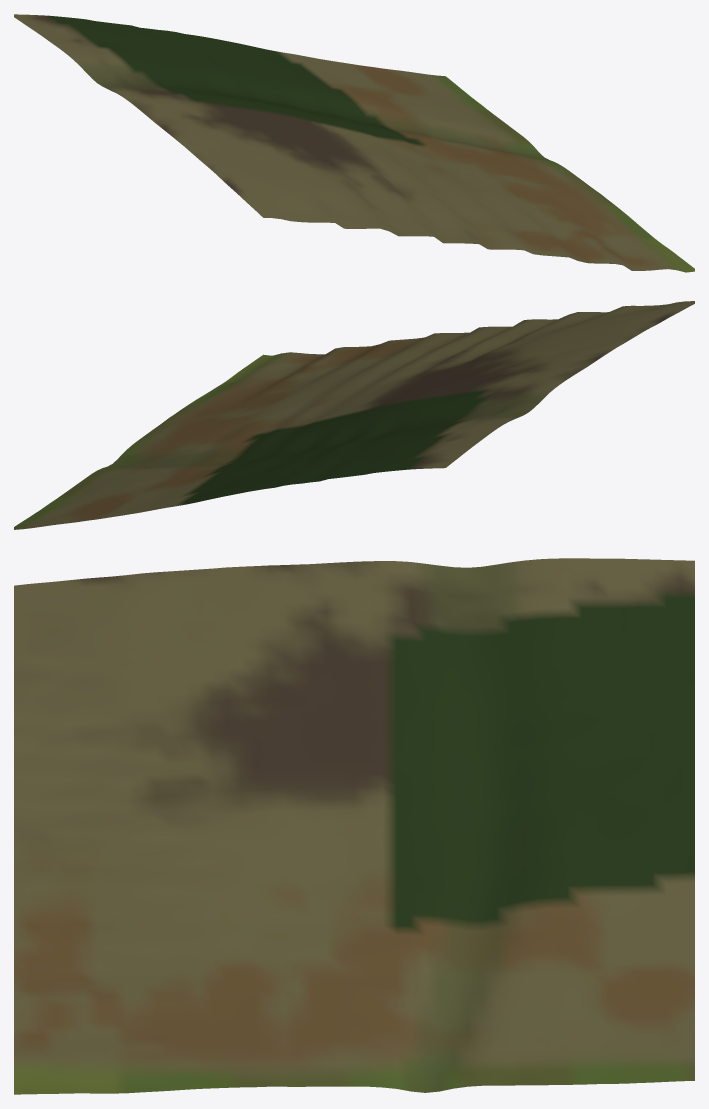
The model's file is land_m_06_07.glb.
3 views of the same model, one above another, from view 1: azimuth 30°, elevation 25°; view 2: azimuth 150°, elevation 25°; view 3: azimuth 270°, elevation 25° (orthographic). The views are drawn at different scales.
Parts seen in each view (by area): view 1: land_m_06_07; view 2: land_m_06_07; view 3: land_m_06_07.
Boxes of the visible parts, <box> form: land_m_06_07: <box>14,14,694,272</box>; land_m_06_07: <box>14,301,694,529</box>; land_m_06_07: <box>14,558,694,1094</box>.
Size of the model in its own units: 960 by 386 by 960.
